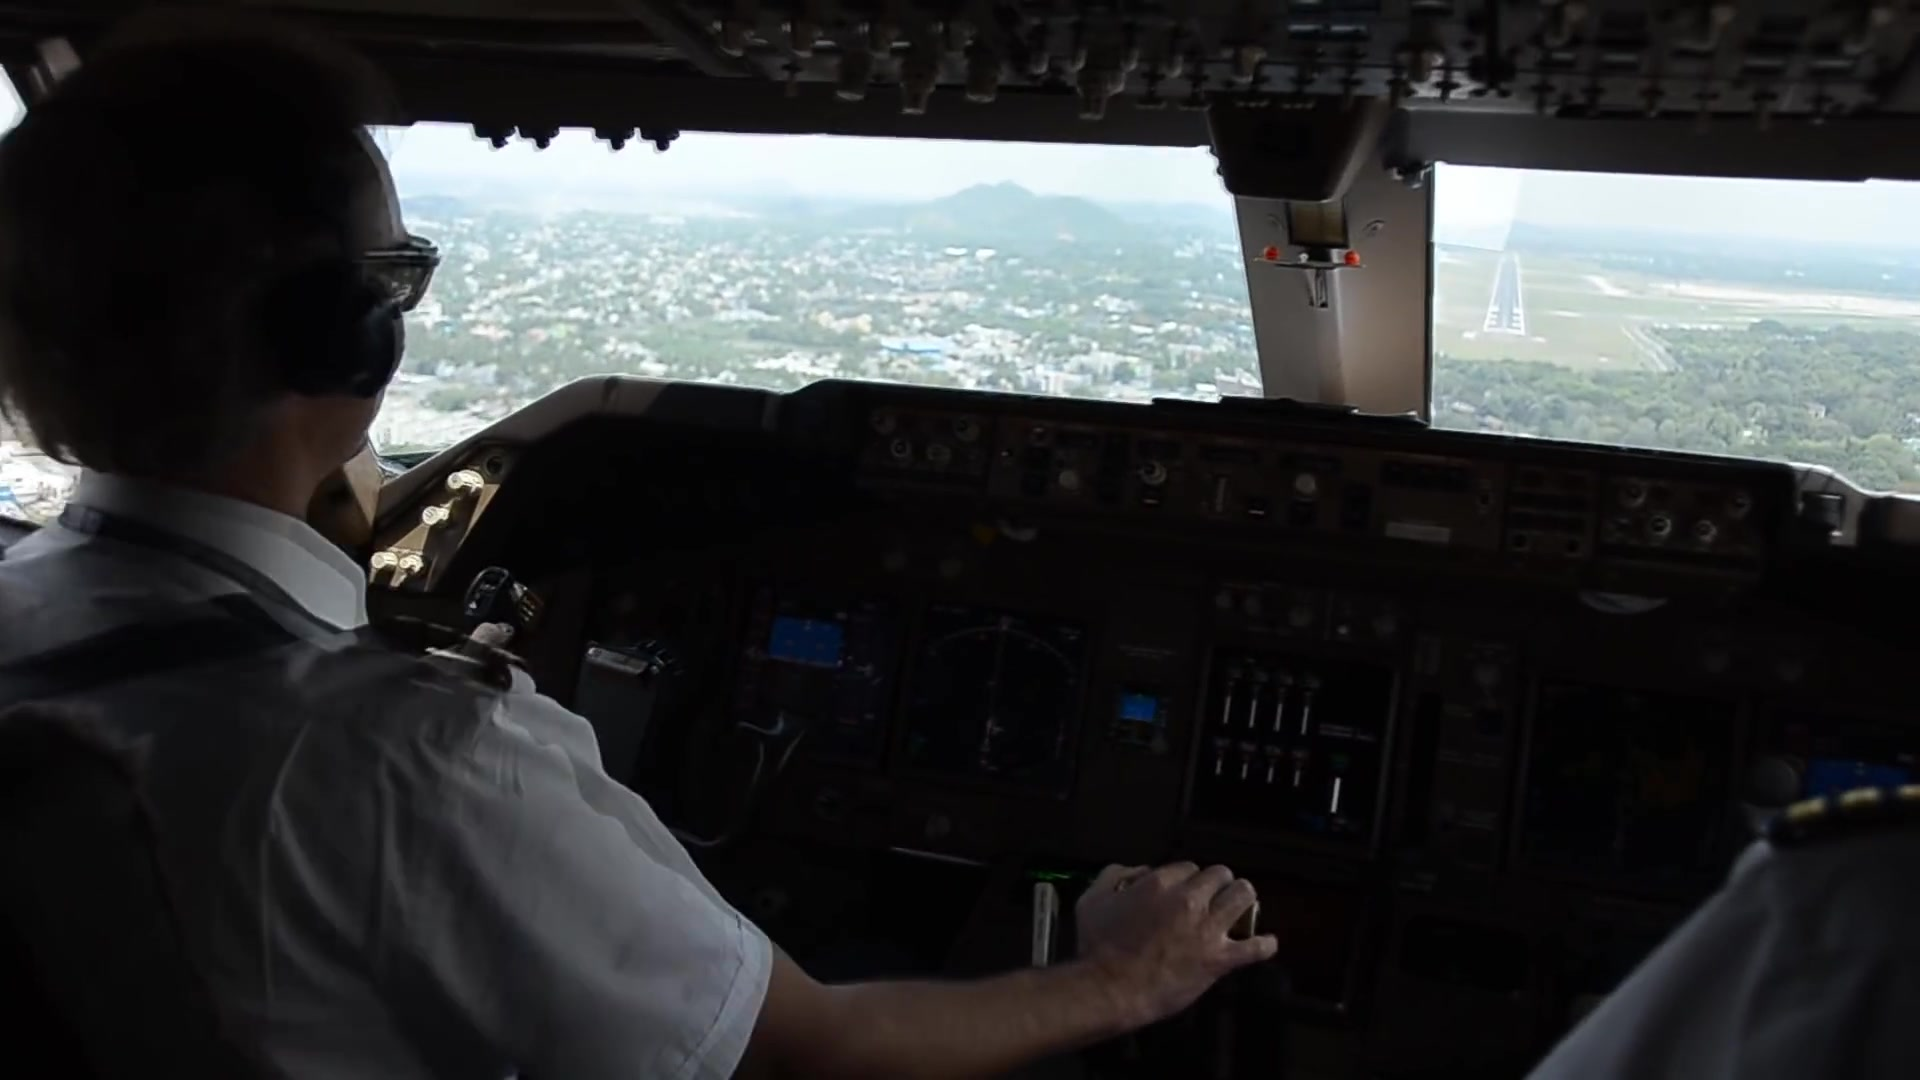runway: (1481, 255, 1526, 336)
